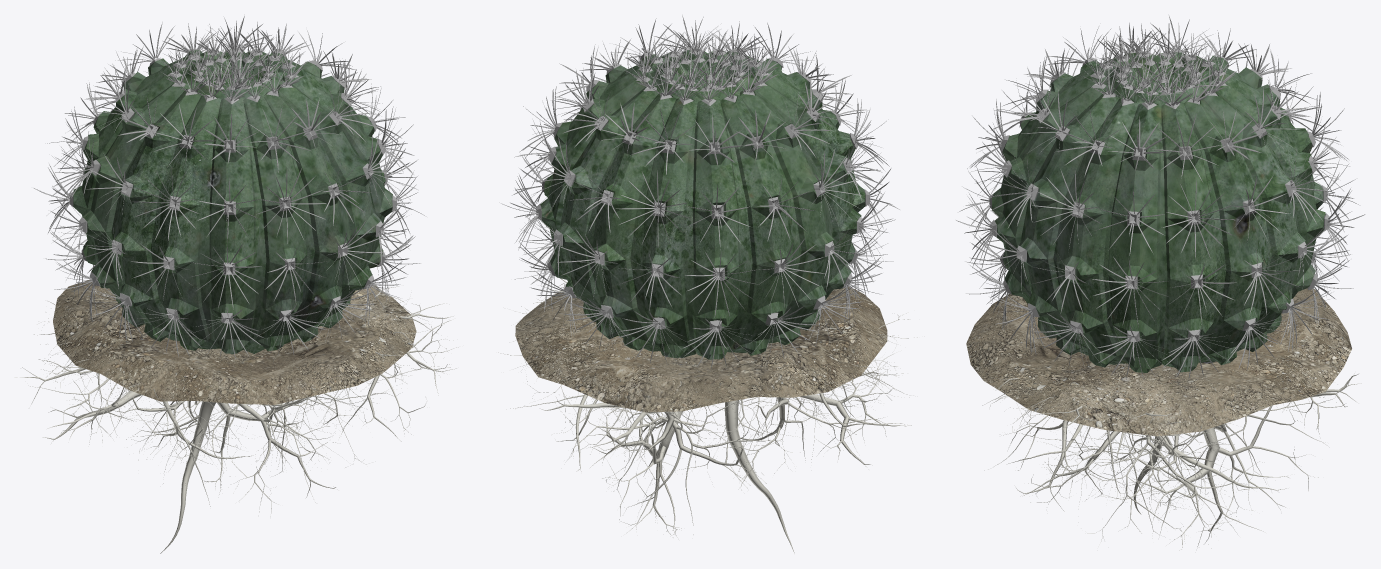
File: Akar Cactus .fbx
3 renders of one model, left to right at view 1: azimuth 30°, elevation 25°; view 2: azimuth 150°, elevation 25°; view 3: azimuth 270°, elevation 25°, orthographic. The views are drawn at different scales.
Visible parts, largest first — view 1: cactus body, spines, ground1, b.001, cactus detail; view 2: cactus body, spines, ground1, b.001, cactus detail; view 3: cactus body, ground1, spines, b.001, cactus detail.
Boxes of the visible parts, <box> form: cactus body: <box>73,49,392,354</box>; spines: <box>33,16,424,358</box>; ground1: <box>53,280,416,404</box>; b.001: <box>14,281,458,553</box>; cactus detail: <box>70,46,396,323</box>; cactus body: <box>540,50,865,359</box>; spines: <box>501,15,899,368</box>; ground1: <box>515,286,887,412</box>; b.001: <box>498,278,917,553</box>; cactus detail: <box>536,47,869,331</box>; cactus body: <box>992,52,1325,372</box>; ground1: <box>966,288,1351,436</box>; spines: <box>956,16,1365,380</box>; b.001: <box>982,338,1361,550</box>; cactus detail: <box>989,49,1330,341</box>.
Bounding box in the file's own units: 1720 × 2077 × 1514.
